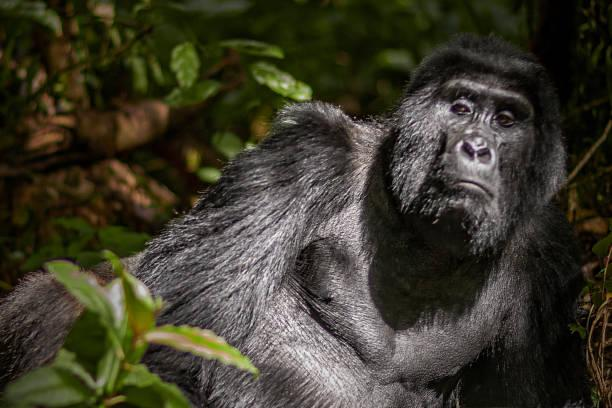goriile_montagne: (20, 25, 578, 408)
